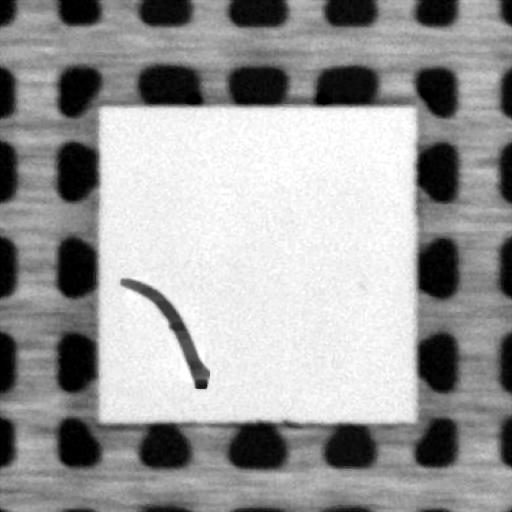DIE_INK: (112, 268, 212, 396)
